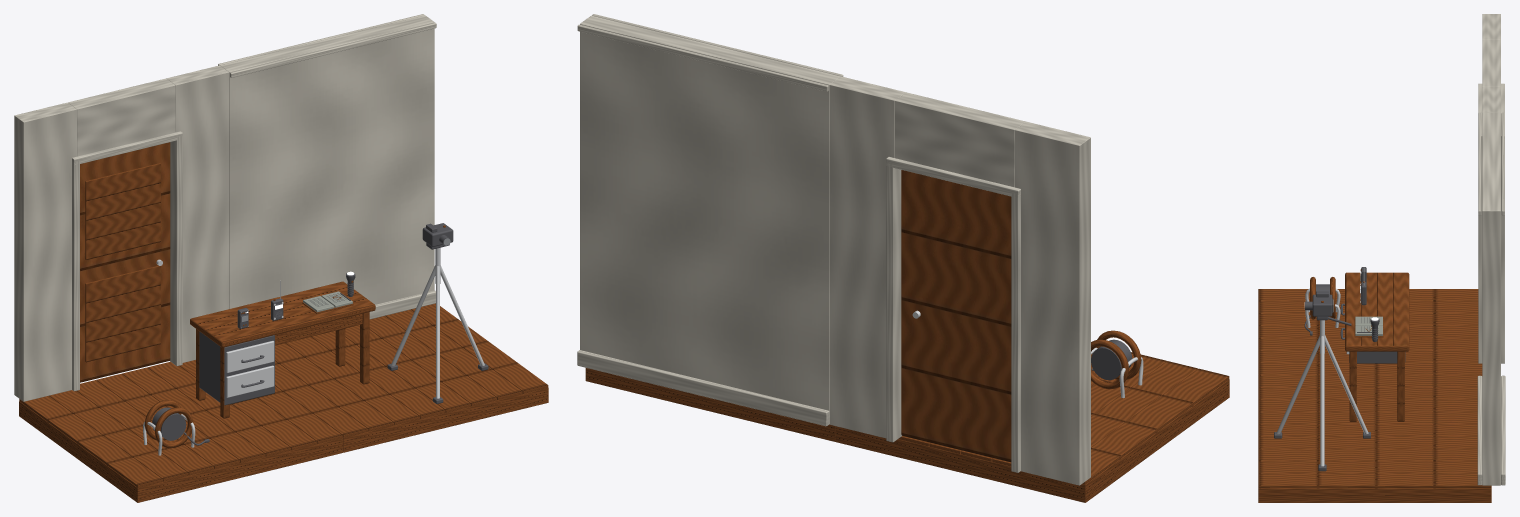
The model's file is paranormal-investigation-house-hallway-equipment-20188030__26900.glb.
The picture shows the model from 3 angles, left to right: view 1: azimuth 30°, elevation 25°; view 2: azimuth 150°, elevation 25°; view 3: azimuth 270°, elevation 25°; orthographic projection. The views are drawn at different scales.
Parts seen in each view (by area): view 1: 003-interior-wall/0, 002-interior-door/0, 001-wood-floor/1, 000-wood-floor/1, 002-interior-door/door/walnut, 002-interior-door/door/oakFloor, 004-van-interior-desk/0, 002-interior-door/1, 000-wood-floor/0, 001-wood-floor/0, 003-interior-wall/1, 004-van-interior-desk/1 (+5 smaller); view 2: 003-interior-wall/0, 002-interior-door/0, 002-interior-door/door/oakFloor, 000-wood-floor/1, 002-interior-door/1, 000-wood-floor/0, 003-interior-wall/1, 001-wood-floor/0, 010-cable-reel/0, 010-cable-reel/1; view 3: 001-wood-floor/1, 000-wood-floor/1, 003-interior-wall/0, 004-van-interior-desk/0, 001-wood-floor/0, 003-interior-wall/1, 002-interior-door/1, 002-interior-door/0, 009-tripod-video-camera/0, 004-van-interior-desk/1, 009-tripod-video-camera/camera-head/plasticBlack, 007-ghost-writing-book/1 (+1 smaller).
Boxes of the visible parts, x1,y1,x2,y2 form: 003-interior-wall/0: [220, 15, 434, 308]; 002-interior-door/0: [14, 65, 228, 401]; 001-wood-floor/1: [275, 303, 548, 437]; 000-wood-floor/1: [19, 360, 342, 487]; 002-interior-door/door/walnut: [85, 163, 160, 362]; 002-interior-door/door/oakFloor: [80, 142, 170, 382]; 004-van-interior-desk/0: [190, 281, 375, 418]; 002-interior-door/1: [72, 131, 182, 391]; 000-wood-floor/0: [19, 401, 342, 502]; 001-wood-floor/0: [343, 387, 548, 452]; 003-interior-wall/1: [218, 14, 436, 319]; 004-van-interior-desk/1: [199, 331, 274, 405]; 003-interior-wall/0: [580, 15, 840, 424]; 002-interior-door/0: [830, 76, 1090, 485]; 002-interior-door/door/oakFloor: [901, 170, 1011, 462]; 000-wood-floor/1: [898, 352, 1229, 484]; 002-interior-door/1: [886, 157, 1020, 472]; 000-wood-floor/0: [835, 379, 1229, 502]; 003-interior-wall/1: [577, 14, 843, 426]; 001-wood-floor/0: [585, 368, 835, 441]; 010-cable-reel/0: [1091, 330, 1141, 389]; 010-cable-reel/1: [1091, 339, 1132, 380]; 001-wood-floor/1: [1258, 387, 1491, 487]; 000-wood-floor/1: [1258, 289, 1482, 387]; 003-interior-wall/0: [1482, 112, 1500, 485]; 004-van-interior-desk/0: [1345, 272, 1409, 421]; 001-wood-floor/0: [1258, 488, 1491, 502]; 003-interior-wall/1: [1477, 112, 1505, 485]; 002-interior-door/1: [1478, 83, 1504, 363]; 002-interior-door/0: [1482, 14, 1500, 112]; 009-tripod-video-camera/0: [1276, 320, 1368, 466]; 004-van-interior-desk/1: [1349, 351, 1405, 363]; 009-tripod-video-camera/camera-head/plasticBlack: [1312, 291, 1332, 316]; 007-ghost-writing-book/1: [1355, 316, 1382, 335].
Bounding box in the file's own units: 4 × 2.76 × 2.12.
7 materials, 2 textured.
